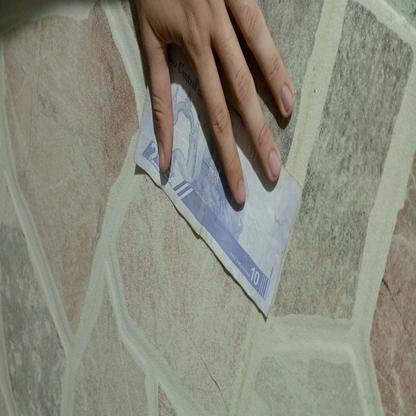ten-back-vef: (132, 42, 302, 320)
